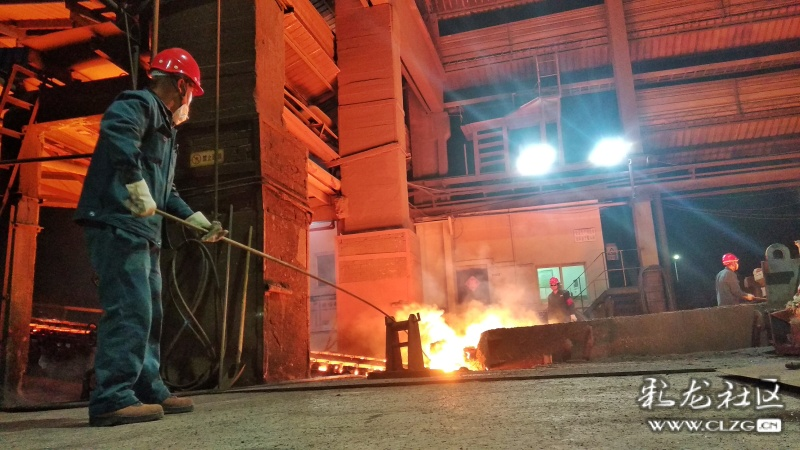safetyhat: (79, 31, 229, 434)
